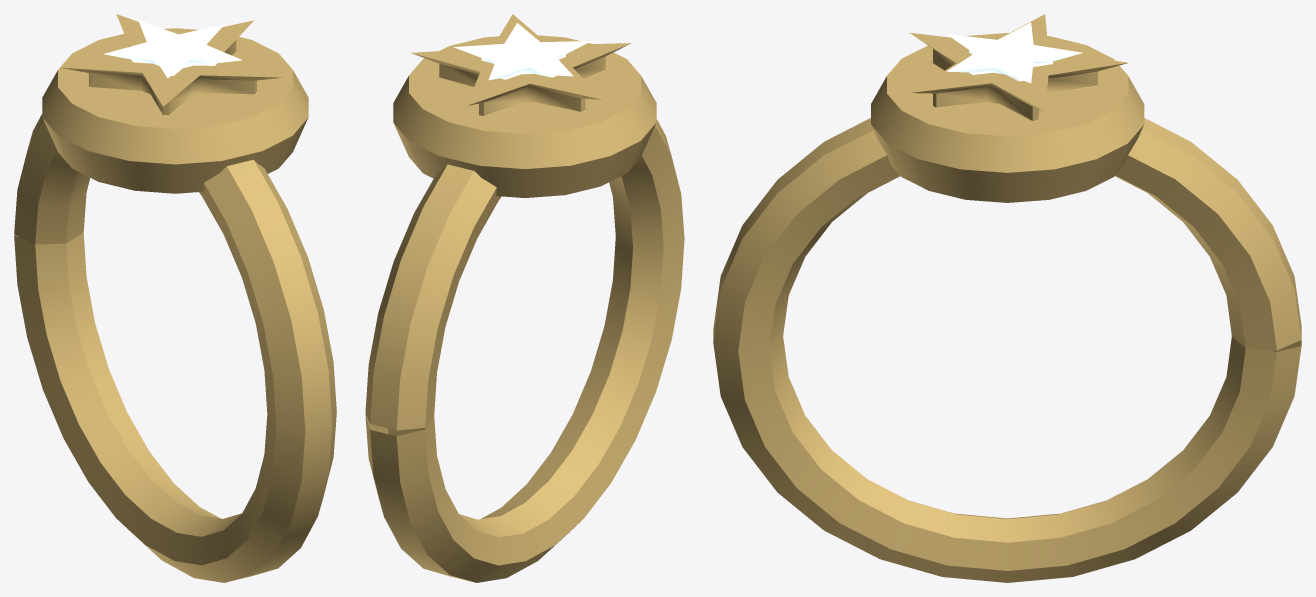
The model's file is boss_starfall_hunter_accessory_1.glb.
3 renders of one model, left to right at view 1: azimuth 30°, elevation 25°; view 2: azimuth 150°, elevation 25°; view 3: azimuth 270°, elevation 25°, orthographic. The views are drawn at different scales.
Parts seen in each view (by area): view 1: boss_starfall_hunter_accessory_1; view 2: boss_starfall_hunter_accessory_1; view 3: boss_starfall_hunter_accessory_1.
Part boxes in pixels (x1,y1,x2,y2): boss_starfall_hunter_accessory_1: (14, 14, 336, 582); boss_starfall_hunter_accessory_1: (365, 14, 684, 582); boss_starfall_hunter_accessory_1: (713, 14, 1301, 582).
Bounding box in the file's own units: 0.068 × 0.1415 × 0.1442.
